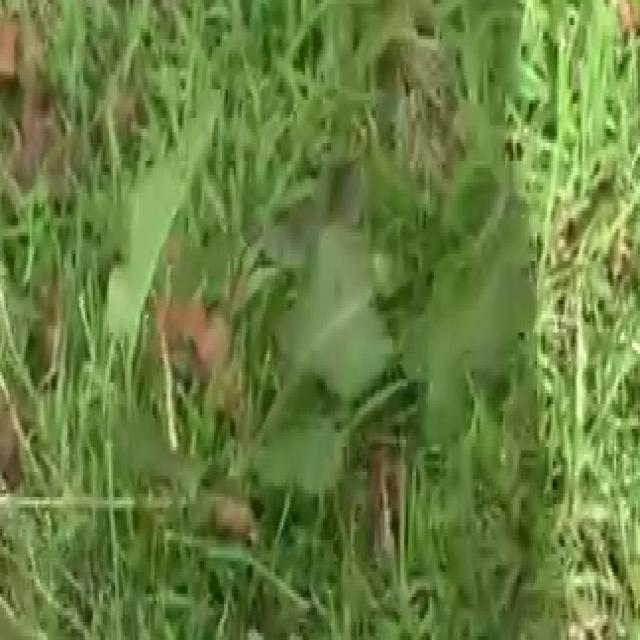organic waste: (71, 104, 539, 604)
